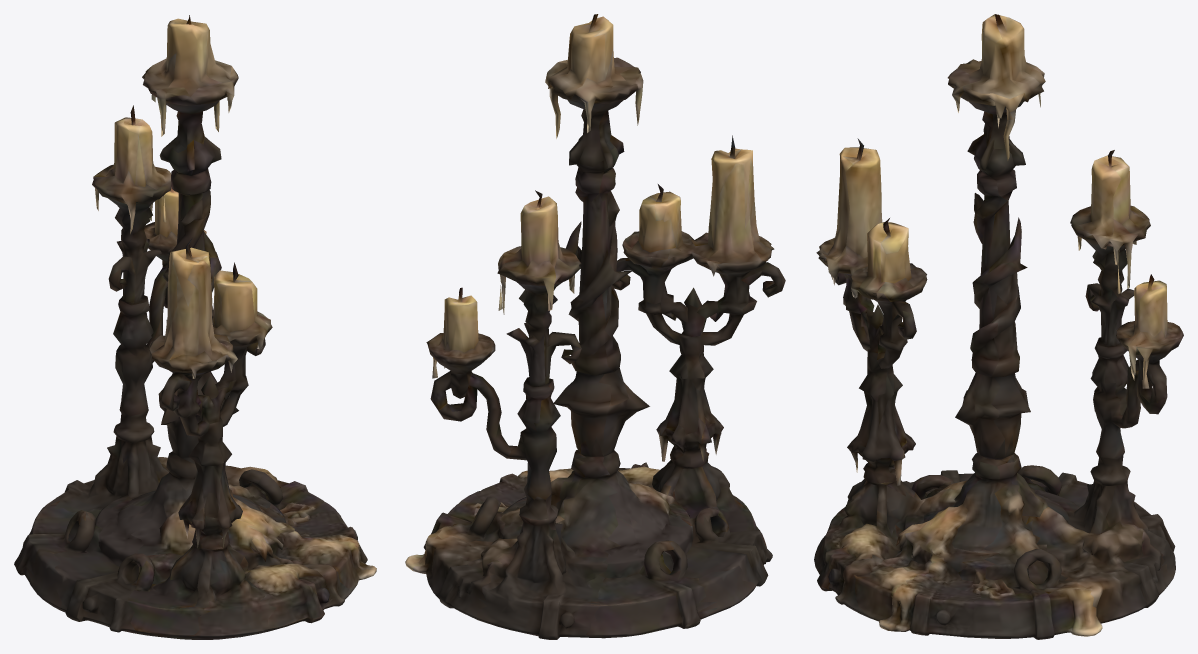
File: candelabra-cluster.glb
3 views of the same model, side by side, from view 1: azimuth 30°, elevation 25°; view 2: azimuth 150°, elevation 25°; view 3: azimuth 270°, elevation 25° (orthographic).
Visible parts, largest first — view 1: tripo_node_1c187a68-a517-4438-8415-9de0f3946b34; view 2: tripo_node_1c187a68-a517-4438-8415-9de0f3946b34; view 3: tripo_node_1c187a68-a517-4438-8415-9de0f3946b34.
Boxes of the visible parts, x1=… form: tripo_node_1c187a68-a517-4438-8415-9de0f3946b34: x1=14, y1=15, x2=376, y2=639; tripo_node_1c187a68-a517-4438-8415-9de0f3946b34: x1=405, y1=14, x2=785, y2=639; tripo_node_1c187a68-a517-4438-8415-9de0f3946b34: x1=814, y1=14, x2=1183, y2=639.
Size of the model in its own units: 0.5588 by 1 by 0.6047.
Materials: 1 (1 with a texture image).
